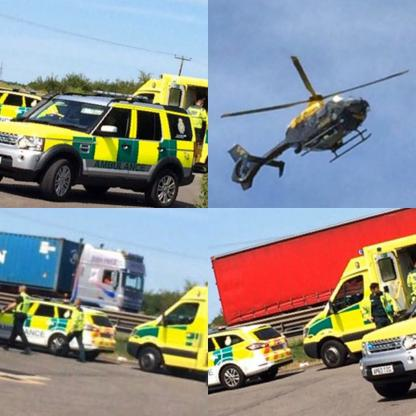Ambulance: (0, 94, 195, 209), (303, 234, 415, 369), (132, 74, 210, 171), (0, 298, 118, 361), (127, 286, 209, 372), (358, 299, 416, 400), (208, 327, 295, 389), (0, 88, 46, 122)
Car: (0, 90, 197, 209), (0, 300, 115, 366), (359, 298, 415, 401), (206, 326, 294, 391)
